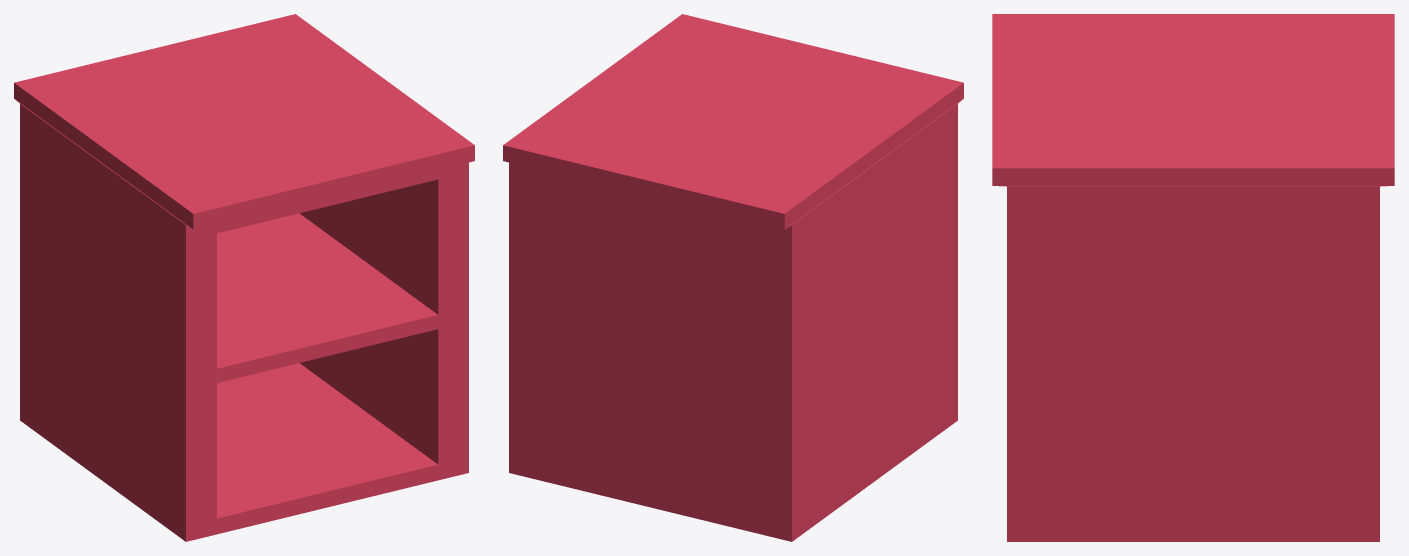
Rendered from bancadinha.fbx.
3 views of the same model, side by side, from view 1: azimuth 30°, elevation 25°; view 2: azimuth 150°, elevation 25°; view 3: azimuth 270°, elevation 25° (orthographic). The views are drawn at different scales.
Visible parts, largest first — view 1: Gavetas; view 2: Gavetas; view 3: Gavetas.
Part boxes in pixels (x1,y1,x2,y2): Gavetas: (14,14,474,541); Gavetas: (503,14,963,541); Gavetas: (992,14,1394,541).
Size of the model in its own units: 187 by 210 by 205.
